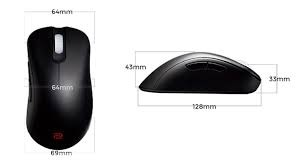mouse: (22, 20, 92, 149), (138, 48, 264, 99)
